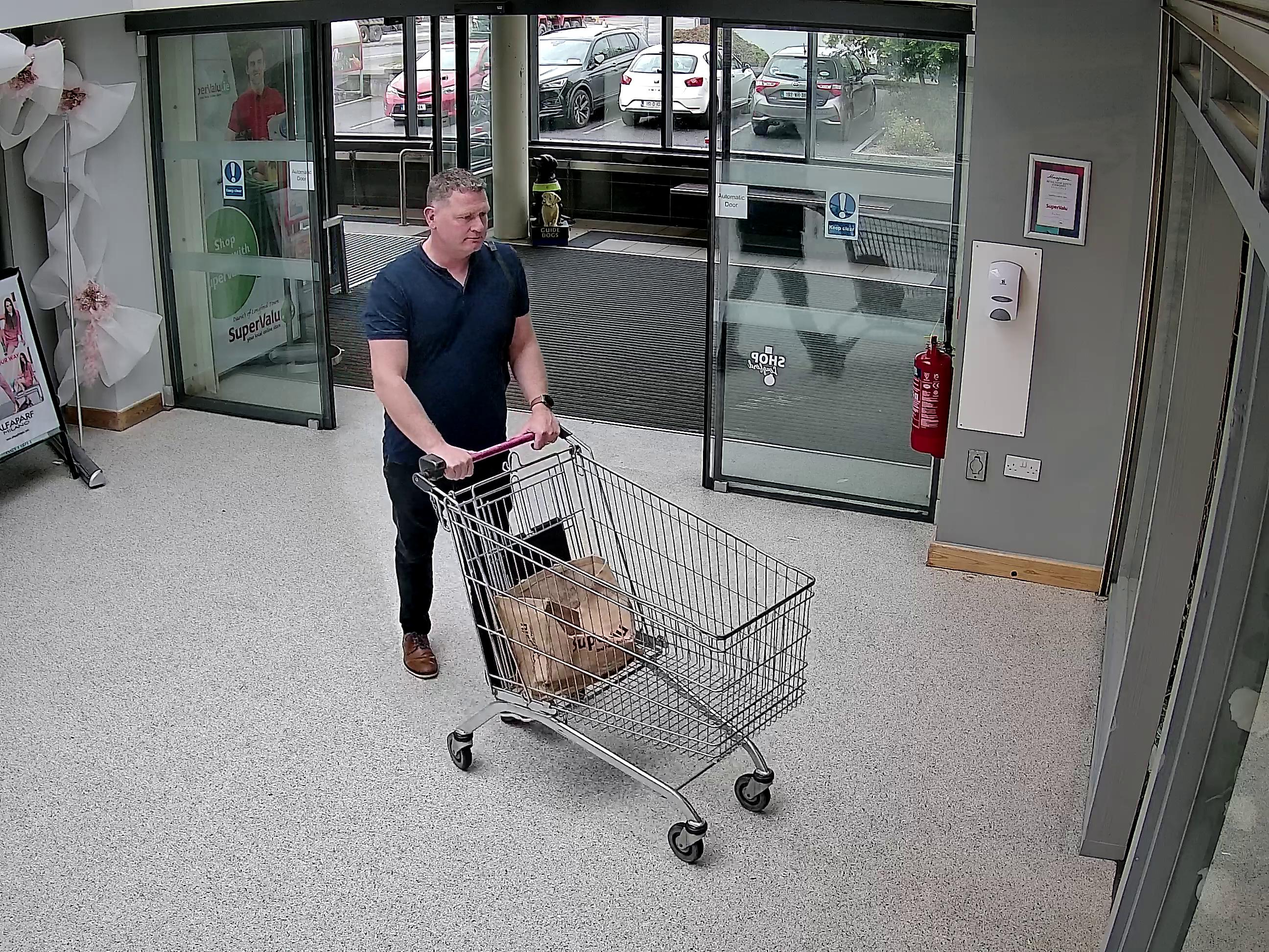empty-trolly: (412, 421, 816, 861)
filled-shopping-bags: (496, 555, 640, 697)
person: (368, 166, 560, 675)
person-with-basket-trolly-and-shopping-bag: (368, 162, 814, 863)
